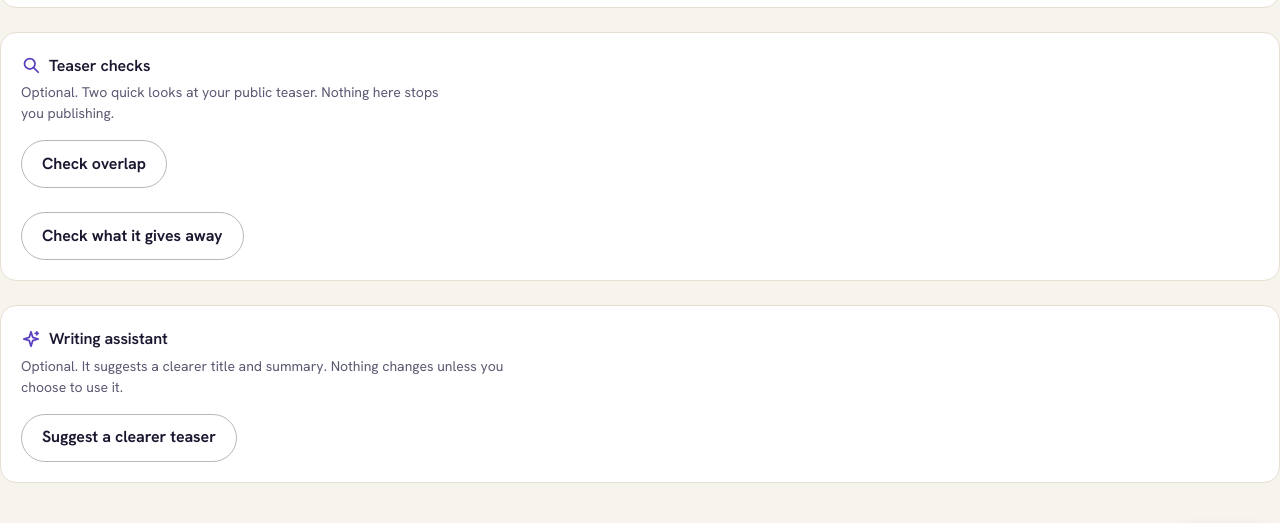
Test: the consent dialog › over HTTP: GET the wording, POST its version, then POST for a suggestion
The image size is (1280, 523).
(page scrolled)
Click the button "Suggest a clearer teaser" at (129, 438), box [21,414,237,462]
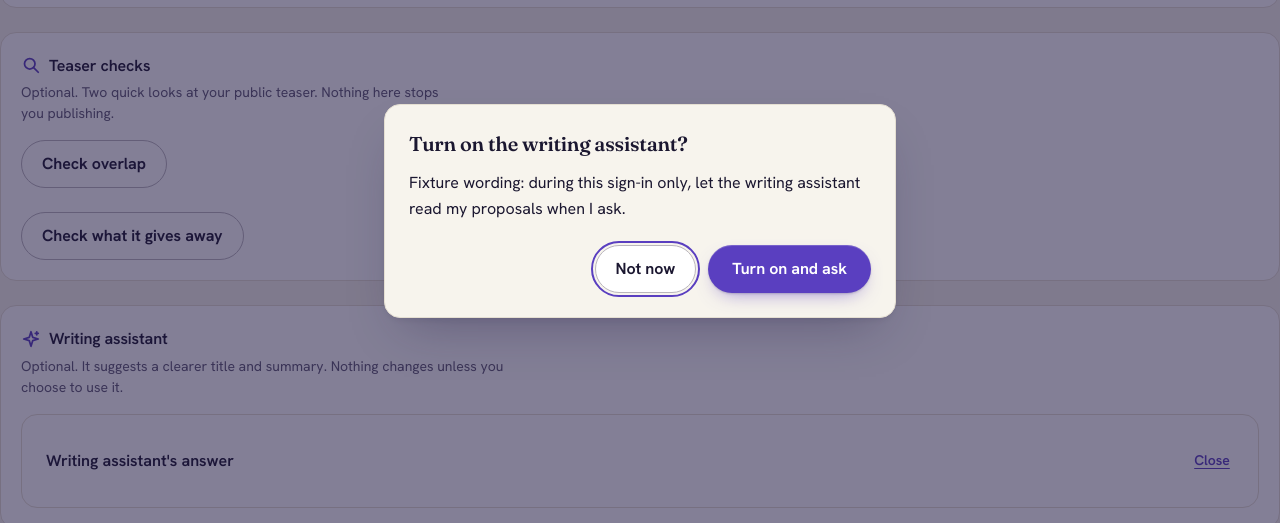
Click the button "Turn on and ask" at (790, 269), box [708,245,871,293]
(page scrolled)
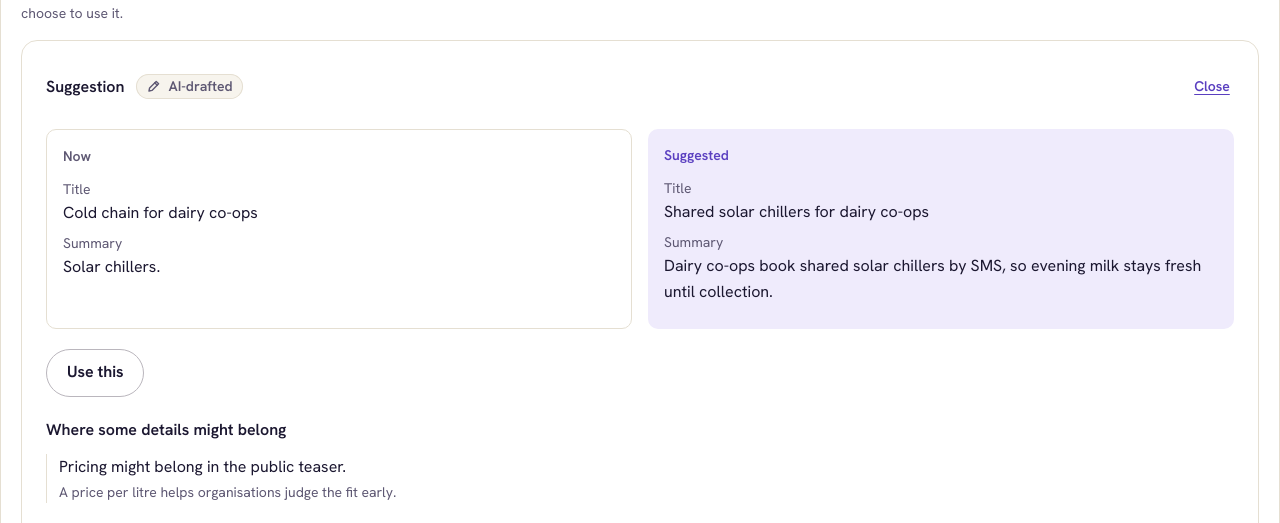
Expected: the text "Shared solar chillers for dairy co-ops" is shown, [664,201,929,222]
